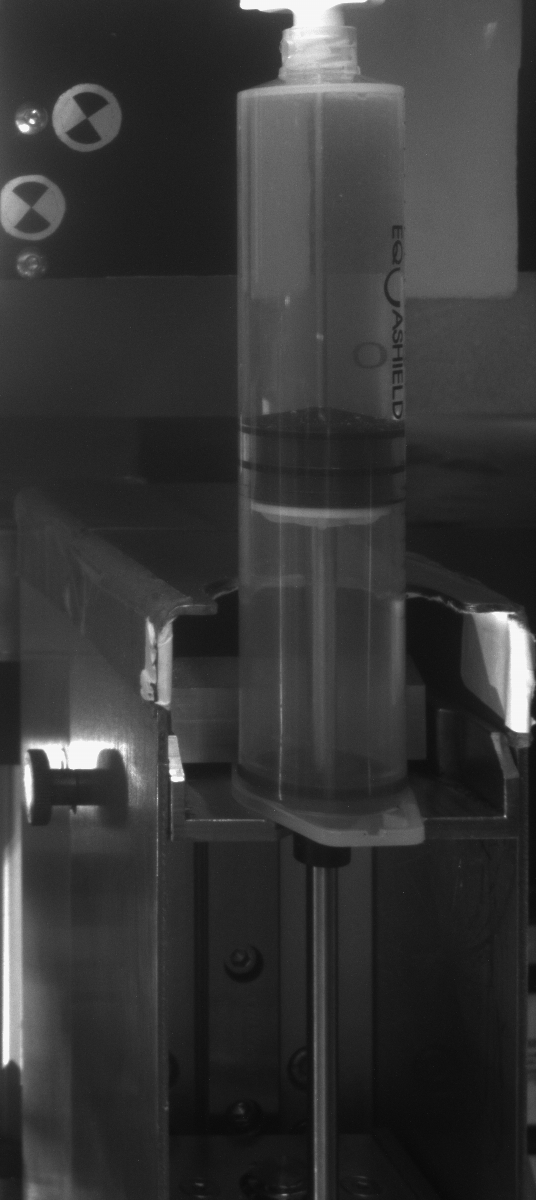piston: (238, 430, 409, 532)
